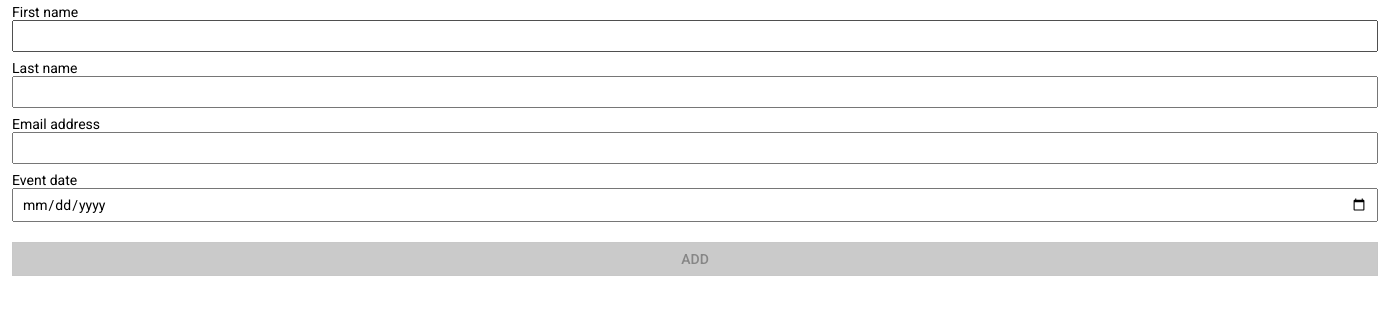
Test: <EventForm> tests › should show error when lastName is cleared after providing some input
The image size is (1390, 312).
Type "sniezek" into the field labelled "Last name".
click(695, 92); type("sniezek")  # box [12, 76, 1378, 108]
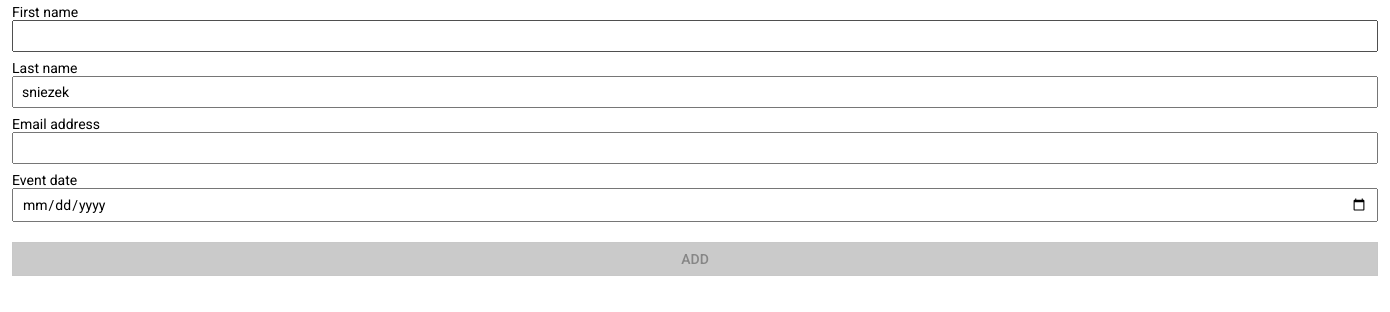
Clear the field labelled "Last name" at (695, 92), box [12, 76, 1378, 108]
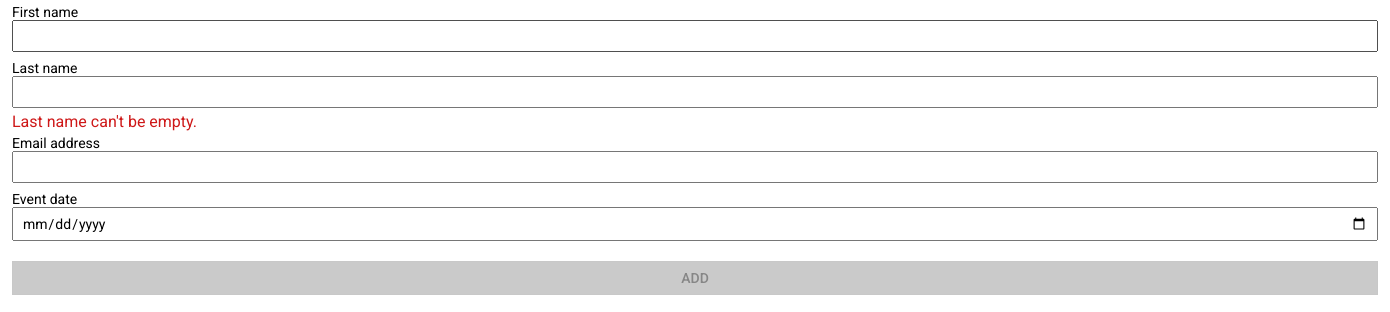
Expected: the text "Last name can't be empty." is shown, [12, 112, 197, 131]
